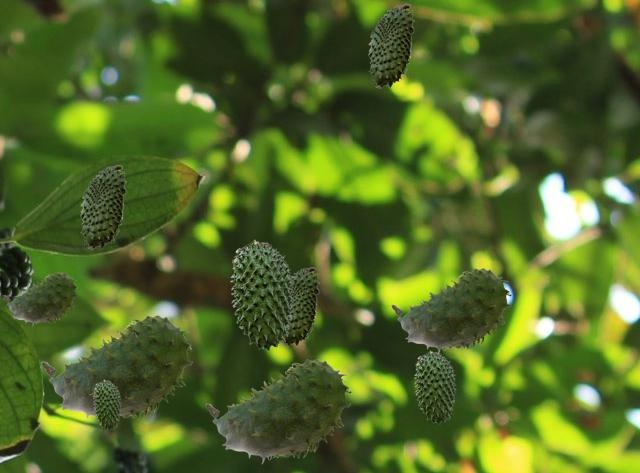guyabano: (41, 315, 192, 424), (205, 359, 350, 463), (391, 268, 510, 353), (230, 239, 293, 350), (3, 272, 77, 325), (368, 4, 413, 87), (80, 165, 125, 248), (414, 350, 455, 423), (281, 267, 318, 345), (93, 379, 120, 429)
